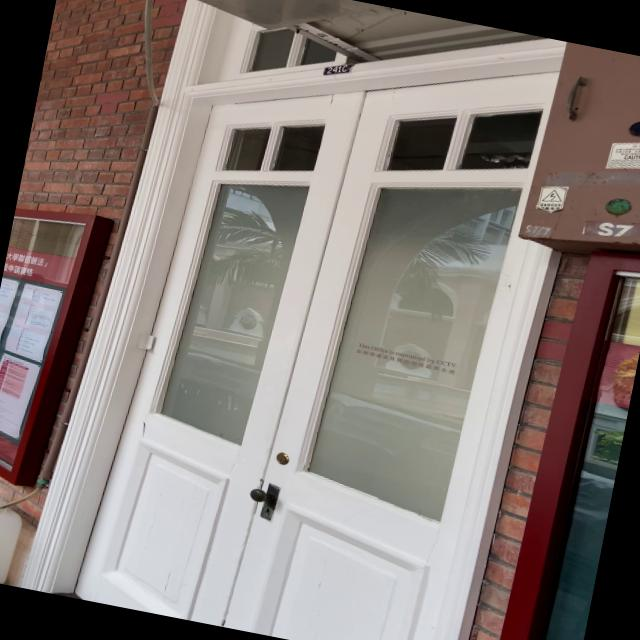room241c: (318, 58, 355, 82)
